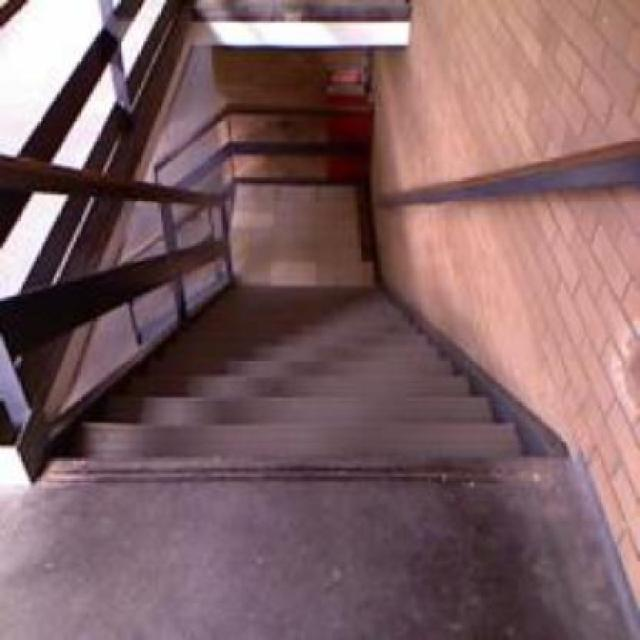stair: (59, 272, 556, 496)
